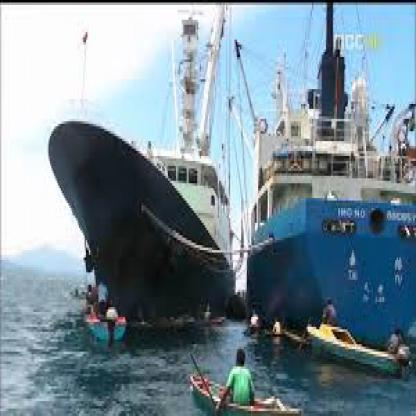fish-b: (28, 0, 251, 344), (227, 0, 415, 372)
